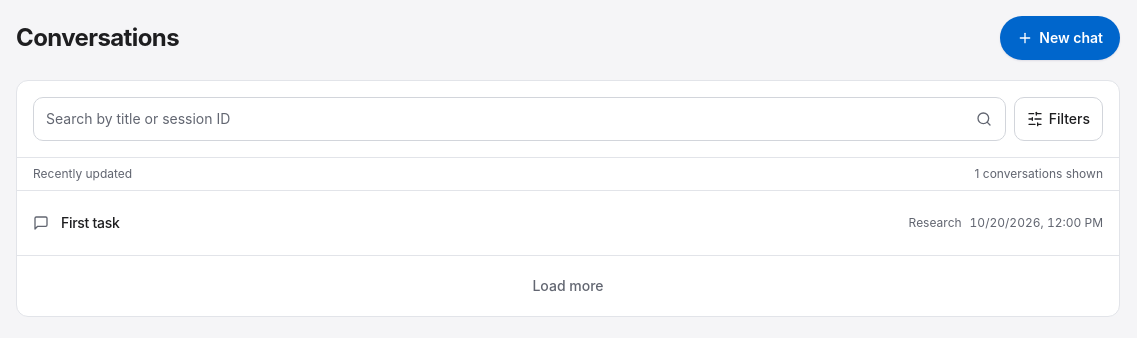
Test: sessions 全局列表 › 提交服务端搜索覆盖未加载历史，翻页保留查询并去重
Expected: the heading "First task" is shown, [61,213,120,233]
Step 1. Type "later" into the search field named "Search sessions" → coordinates (519, 119), box [33,97,1006,141]
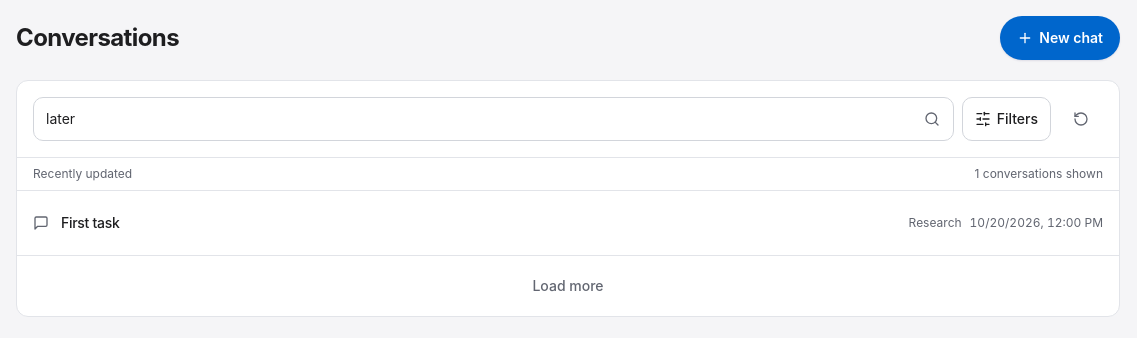
Step 2. Click the button named "Search" → coordinates (932, 119), box [910,97,954,141]
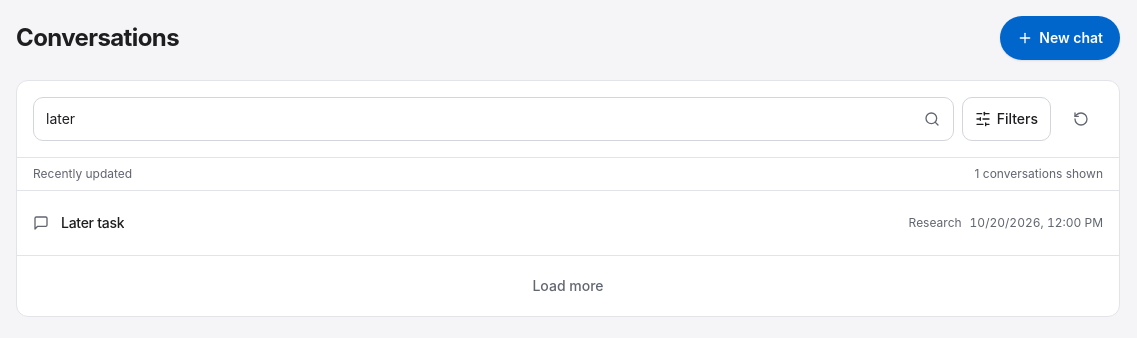
Expected: the heading "Later task" is shown, [61,213,124,233]
Expected: the link "First task" is gone
Step 3. Click the button "Load more" → coordinates (568, 286), box [25,264,1111,308]
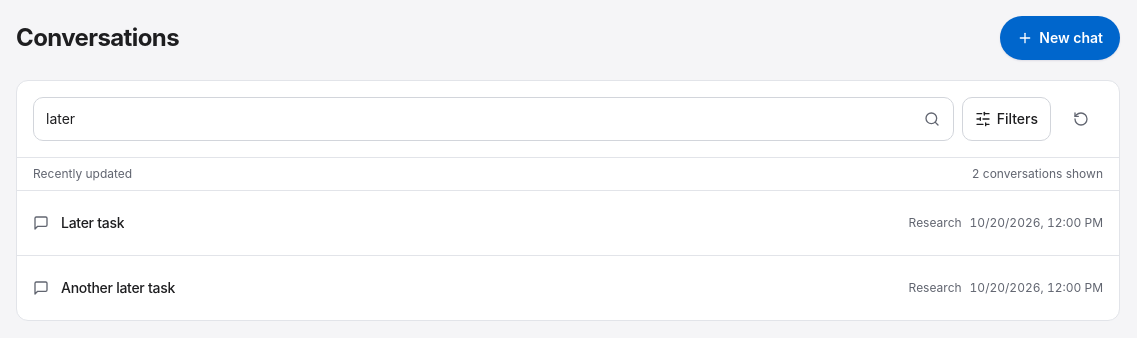
Expected: the heading "Another later task" is shown, [61,278,175,298]
Expected: the number of list items is 2, [33,214,1103,231]; [17,255,1119,320]
